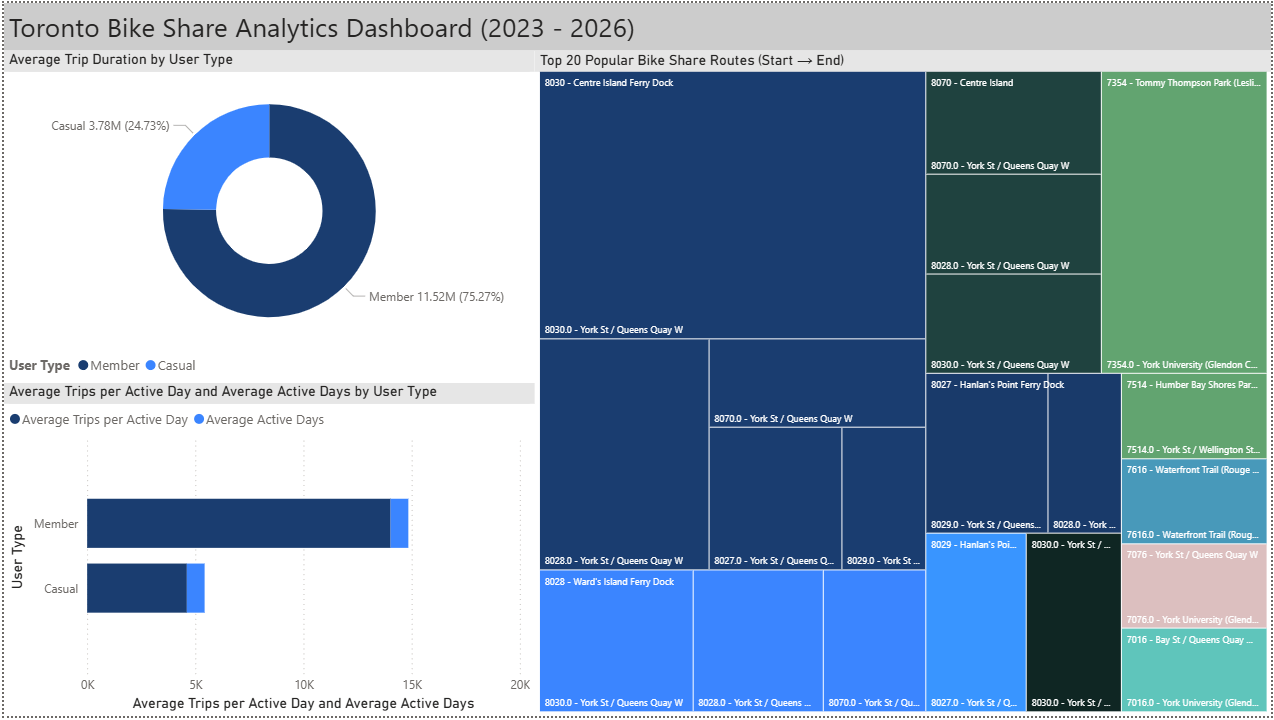

The page's visual inventory and layout, read from the dashboard file:
{"tool":"powerbi","page":{"name":"Page 1","canvas":[1280,720],"ordinal":0},"visuals":[{"type":"pieChart","title":"Average Trip Duration by User Type","fields":{"Category":["member_engagement_metrics.user_type_name"],"Y":["Avg(member_engagement_metrics.total_trips)"]},"box":[0,48,536,336],"z":0},{"type":"treemap","title":"Top 20 Popular Bike Share Routes (Start → End)","fields":{"Values":["Sum(trip_flow_summary.total_trips)"],"Group":["trip_flow_summary.start_station"],"Details":["trip_flow_summary.end_station"]},"box":[536,48,744,672],"z":1000},{"type":"textbox","box":[0,0,1280,48],"z":2000},{"type":"barChart","title":"Average Trips per Active Day and Average Active Days by User Type","fields":{"Category":["member_engagement_metrics.user_type_name"],"Y":["Avg(member_engagement_metrics.avg_trips_per_active_day)","Avg(member_engagement_metrics.active_days)"]},"box":[0,384,536,336],"z":3000}]}

Visuals, with their boxes in screenshot pixels (x1, y1, x2, y2), scaled from the page's 1280x720 canvas onto the 1274x720 screenshot:
"Average Trip Duration by User Type" pieChart: l=0, t=48, r=533, b=384
"Top 20 Popular Bike Share Routes (Start → End)" treemap: l=533, t=48, r=1273, b=719
textbox: l=0, t=0, r=1273, b=48
"Average Trips per Active Day and Average Active Days by User Type" barChart: l=0, t=384, r=533, b=719
